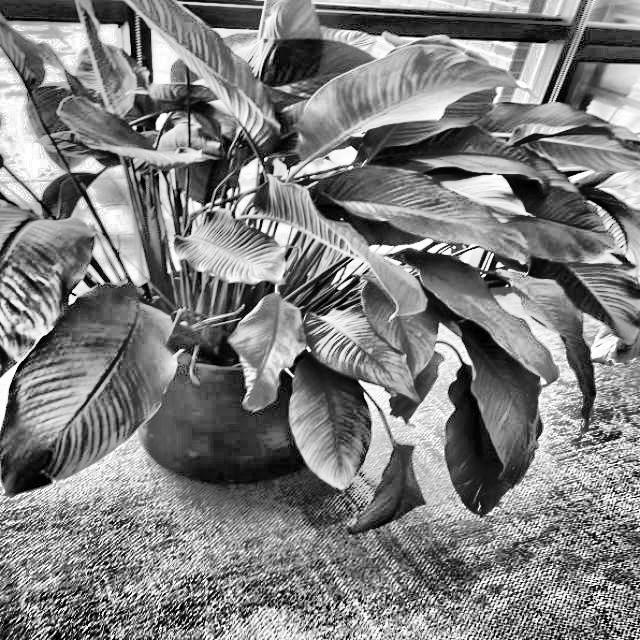plants: (0, 0, 587, 525)
